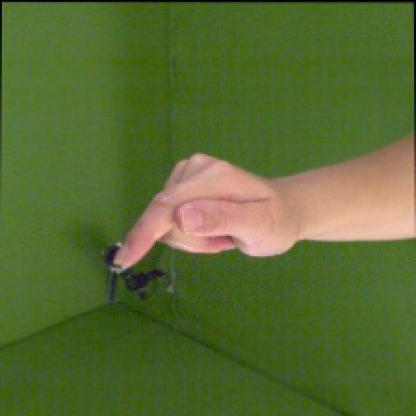Hand: (111, 152, 299, 269)
